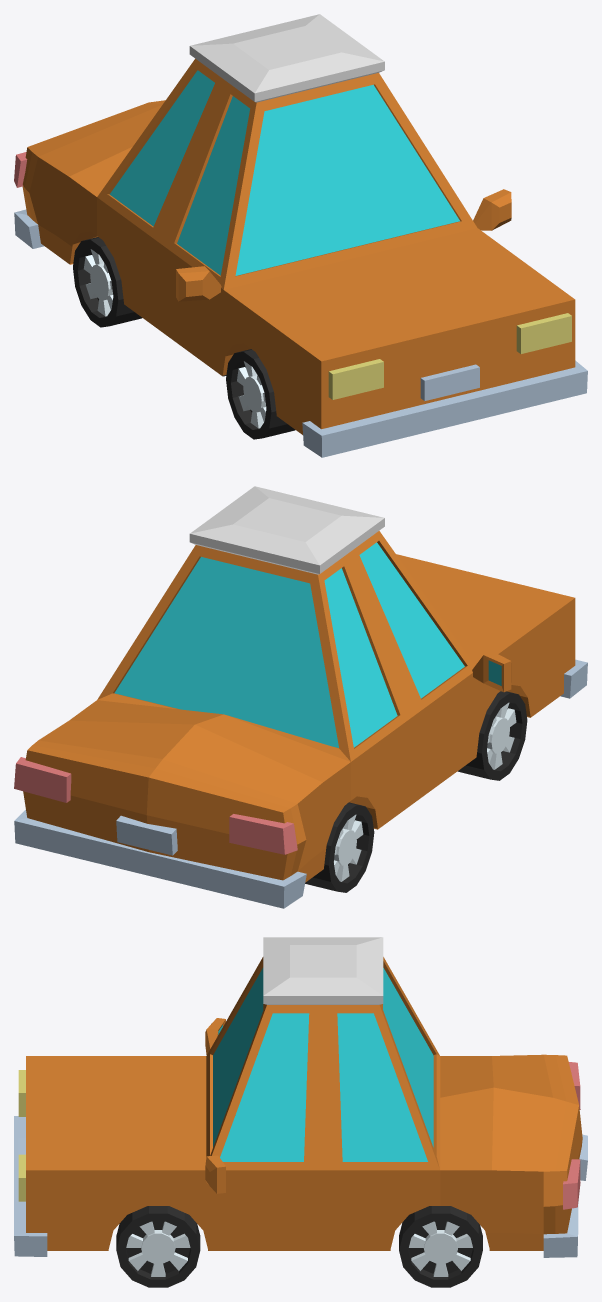
File: Car_01_v2.fbx
3 renders of one model, top to bottom at view 1: azimuth 30°, elevation 25°; view 2: azimuth 150°, elevation 25°; view 3: azimuth 270°, elevation 25°, orthographic. The views are drawn at different scales.
Parts seen in each view (by area): view 1: Car_01; view 2: Car_01; view 3: Car_01.
Boxes of the visible parts, box(x1,y1,x2,y2) form: Car_01: box(14, 14, 587, 457); Car_01: box(14, 486, 587, 908); Car_01: box(14, 937, 587, 1287).
Size of the model in its own units: 849 by 524 by 438.
